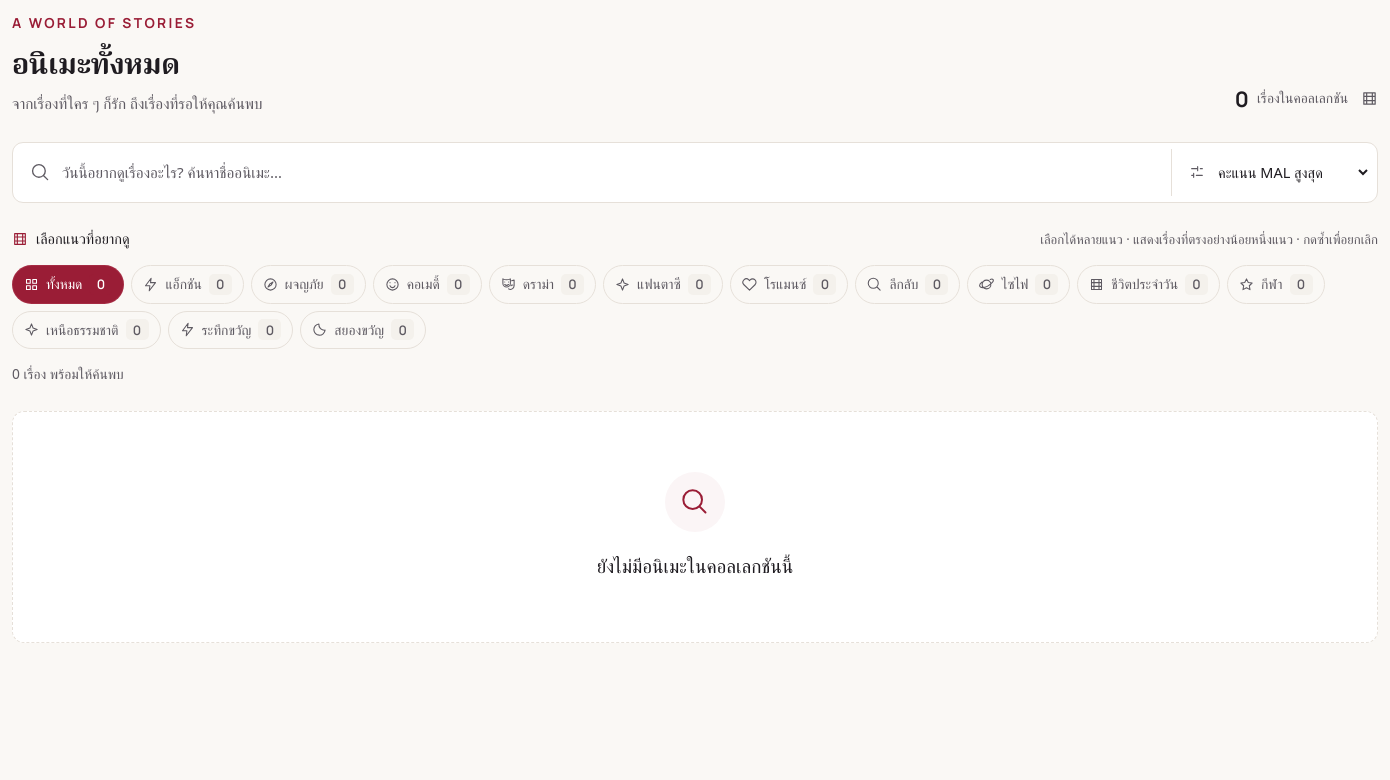
an empty catalog still offers clickable genres with zero counts
expect the text "ยังไม่มีอนิเมะในคอลเลกชันนี้" is shown: met, box [597,551,793,582]
expect the button "แอ็กชัน 0" is shown: met, box [131,265,244,304]
Click the button "แฟนตาซี 0" at x=663, y=284, box [603,265,723,304]
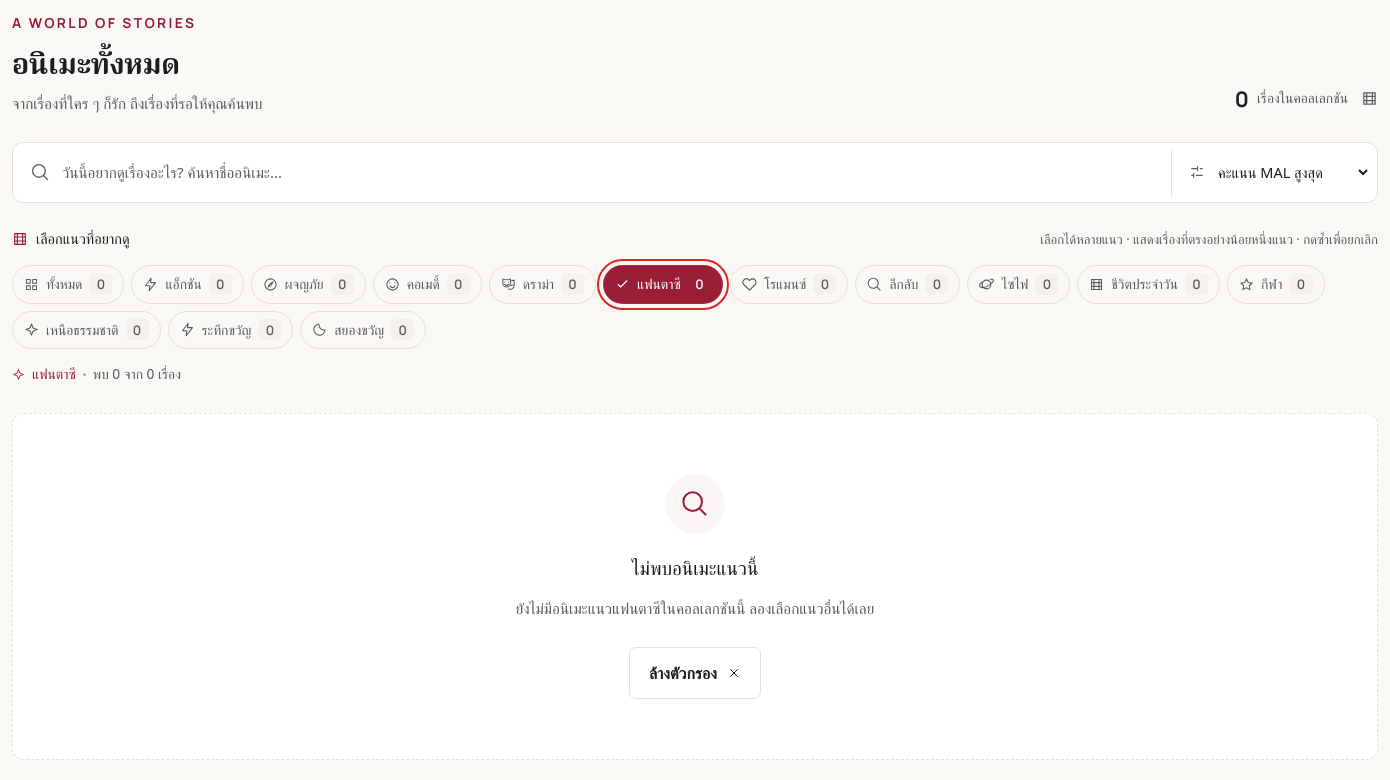
expect the text "ไม่พบอนิเมะแนวนี้" is shown: met, box [632,553,758,584]
expect the text "ยังไม่มีอนิเมะแนวแฟนตาซีในคอลเลกชันนี้ ลองเลือกแนวอื่นได้เลย" is shown: met, box [516,594,874,623]
Click the button "ทั้งหมด 0" at x=68, y=284, box [12,265,124,304]
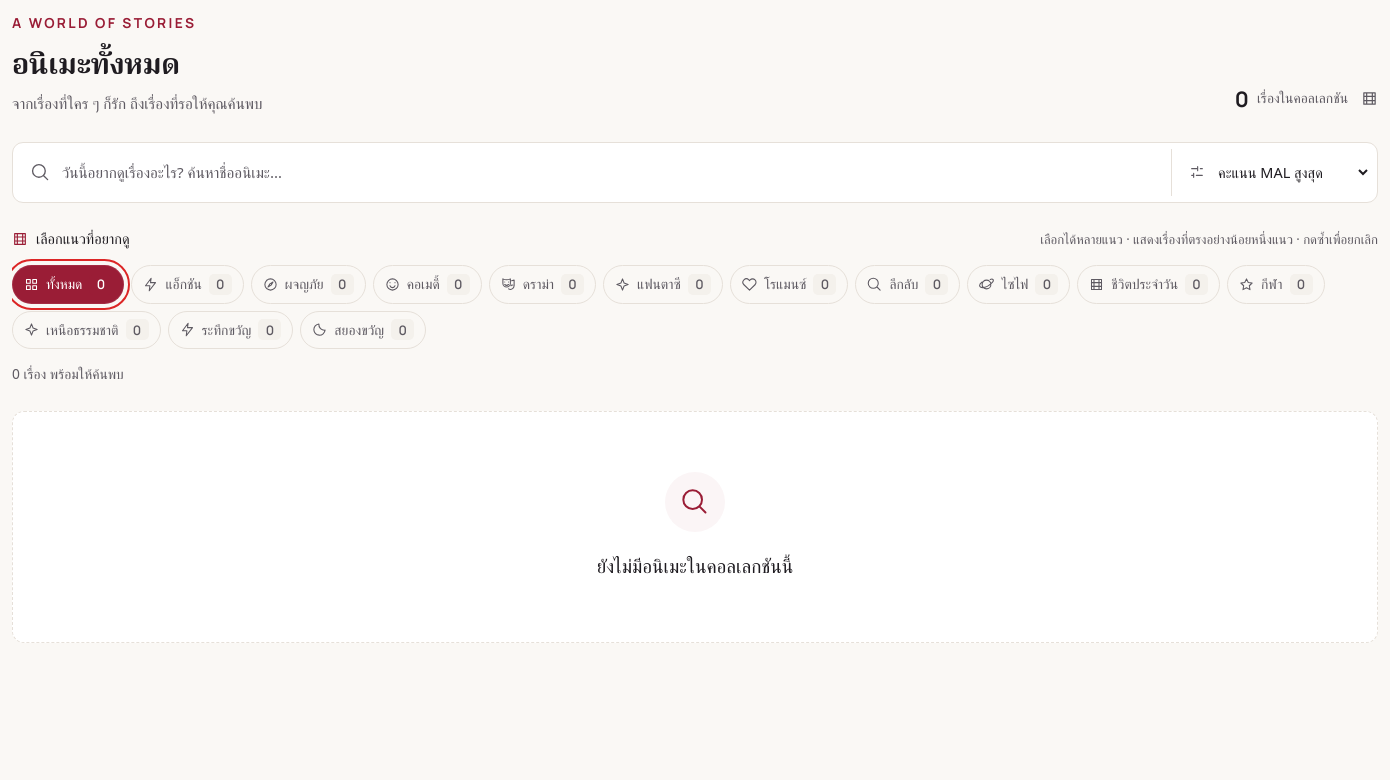
expect the text "ยังไม่มีอนิเมะในคอลเลกชันนี้" is shown: met, box [597,551,793,582]
